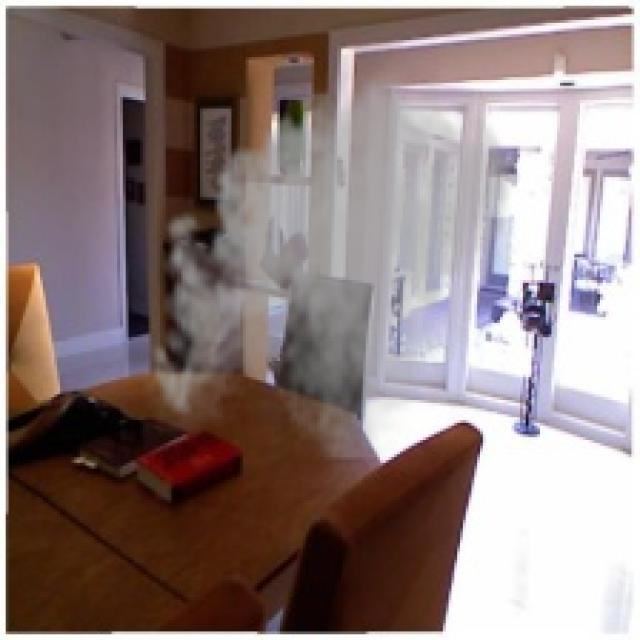smoke: (140, 60, 520, 463)
